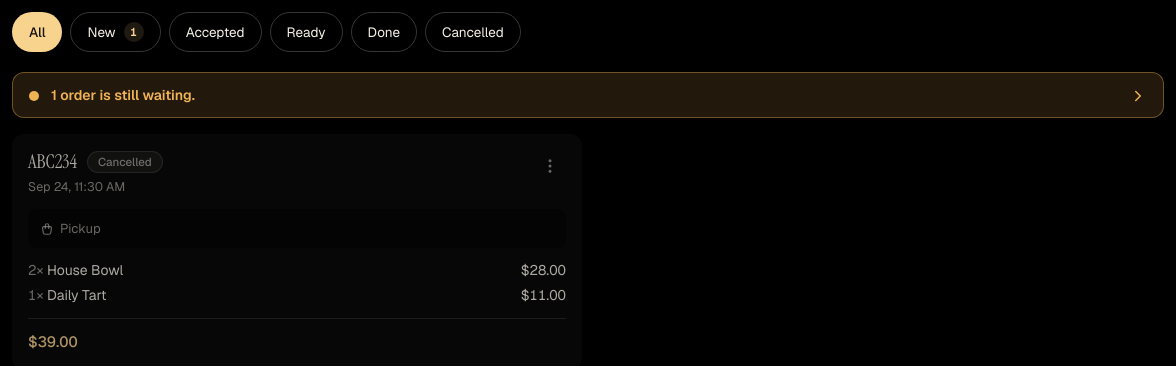
Test: OrdersPage › cannot edit a cancelled order, only delete it
Click the button named "More for order ABC234" at (550, 166), box [534, 150, 566, 182]
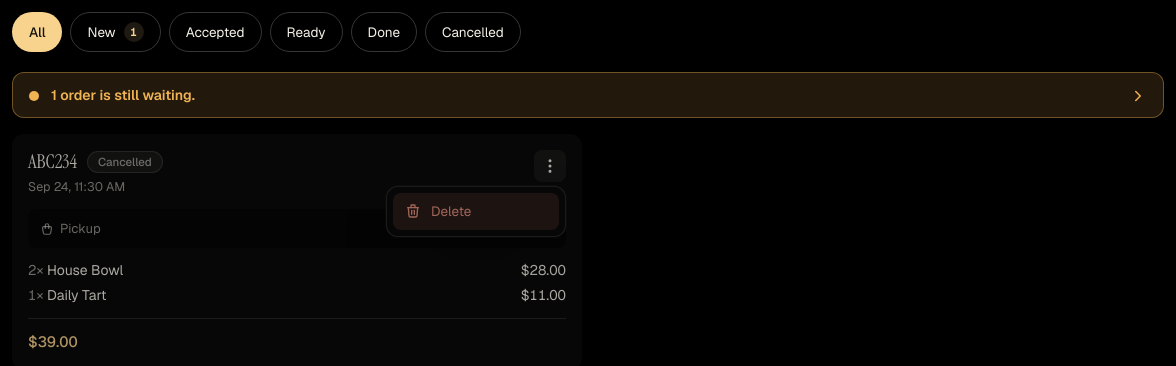
Check: the menu item with aria-label "Delete order ABC234" is shown, box [393, 193, 559, 230]
